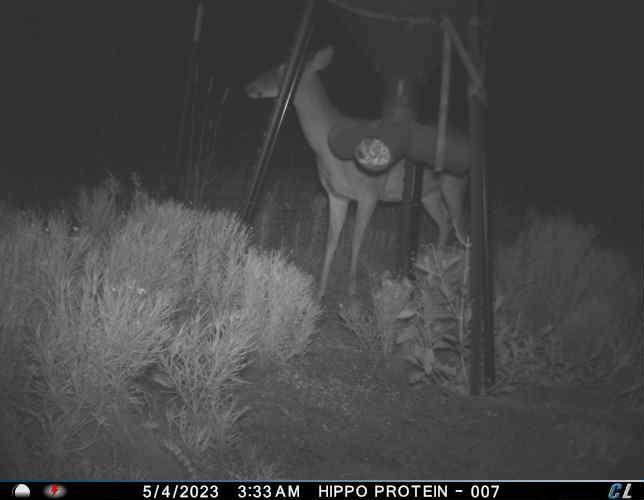Deer: (244, 37, 474, 299)
